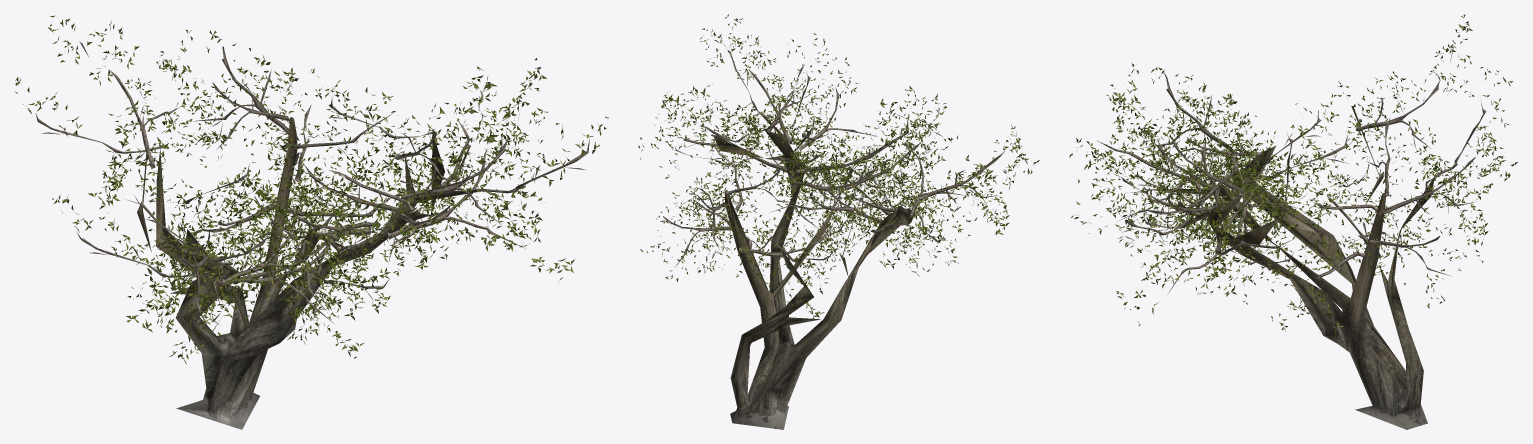
The model's file is island_tree_02_far.glb.
3 views of the same model, side by side, from view 1: azimuth 30°, elevation 25°; view 2: azimuth 150°, elevation 25°; view 3: azimuth 270°, elevation 25° (orthographic). The views are drawn at different scales.
Visible parts, largest first — view 1: island_tree_02_LOD0; view 2: island_tree_02_LOD0; view 3: island_tree_02_LOD0.
Boxes of the visible parts, left/top/right/bottom form: island_tree_02_LOD0: left=14, top=15, right=608, bottom=429; island_tree_02_LOD0: left=638, top=14, right=1039, bottom=429; island_tree_02_LOD0: left=1069, top=14, right=1517, bottom=429.
Bounding box in the file's own units: 3.82 × 3.4 × 4.03.
Materials: 3 (3 with a texture image).
